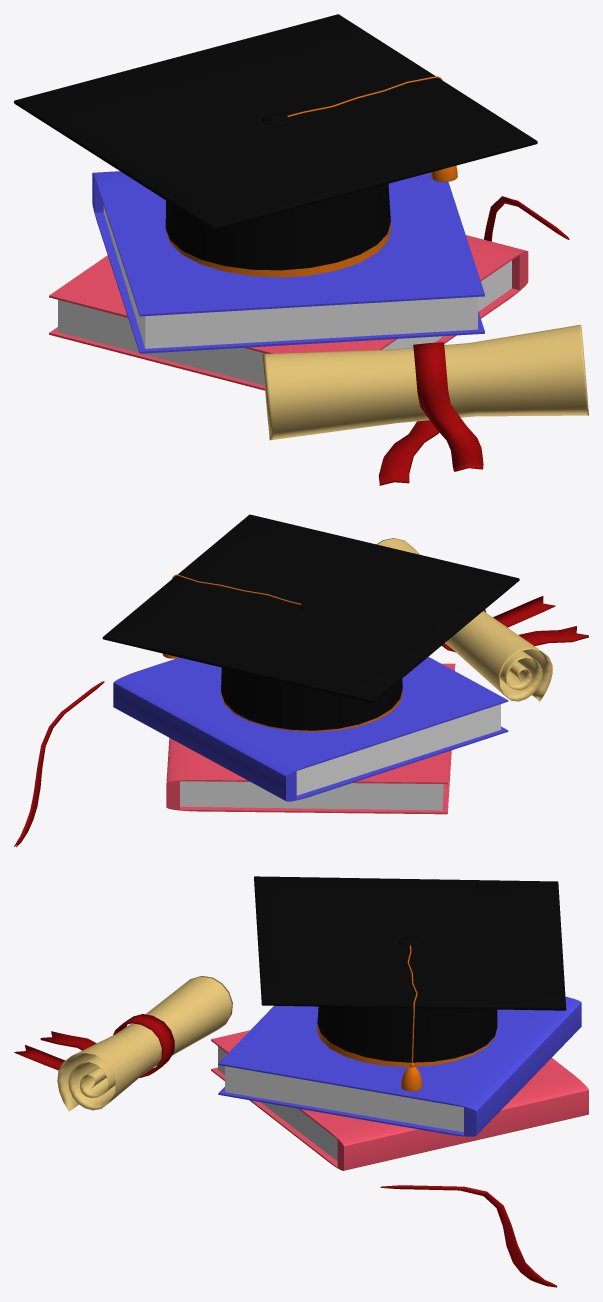
The model's file is graduation_pos.glb.
3 renders of one model, top to bottom at view 1: azimuth 30°, elevation 25°; view 2: azimuth 150°, elevation 25°; view 3: azimuth 270°, elevation 25°, orthographic. The views are drawn at different scales.
Parts seen in each view (by area): view 1: Cube_2, Cube.001, Object_7, Cube, Object_6, Object_9; view 2: Cube_2, Cube.001, Cube, Object_7, Object_6, Object_9; view 3: Cube_2, Cube.001, Cube, Object_7, Object_6, Object_9.
Part boxes in pixels (box(x1,y1,x2,y2)): Cube_2: box(14, 14, 537, 277); Cube.001: box(92, 171, 484, 353); Object_7: box(262, 324, 588, 440); Cube: box(49, 235, 528, 390); Object_6: box(378, 342, 483, 485); Object_9: box(484, 196, 569, 241); Cube_2: box(102, 514, 519, 731); Cube.001: box(113, 657, 508, 801); Cube: box(166, 663, 455, 814); Object_7: box(376, 538, 552, 701); Object_6: box(441, 596, 588, 652); Object_9: box(14, 681, 104, 847); Cube_2: box(254, 876, 566, 1066); Cube.001: box(218, 996, 581, 1136); Cube: box(211, 1030, 588, 1170); Object_7: box(57, 976, 232, 1111); Object_6: box(14, 1014, 174, 1077); Object_9: box(380, 1185, 557, 1287).
Size of the model in its own units: 2.02 by 1.24 by 2.65.
